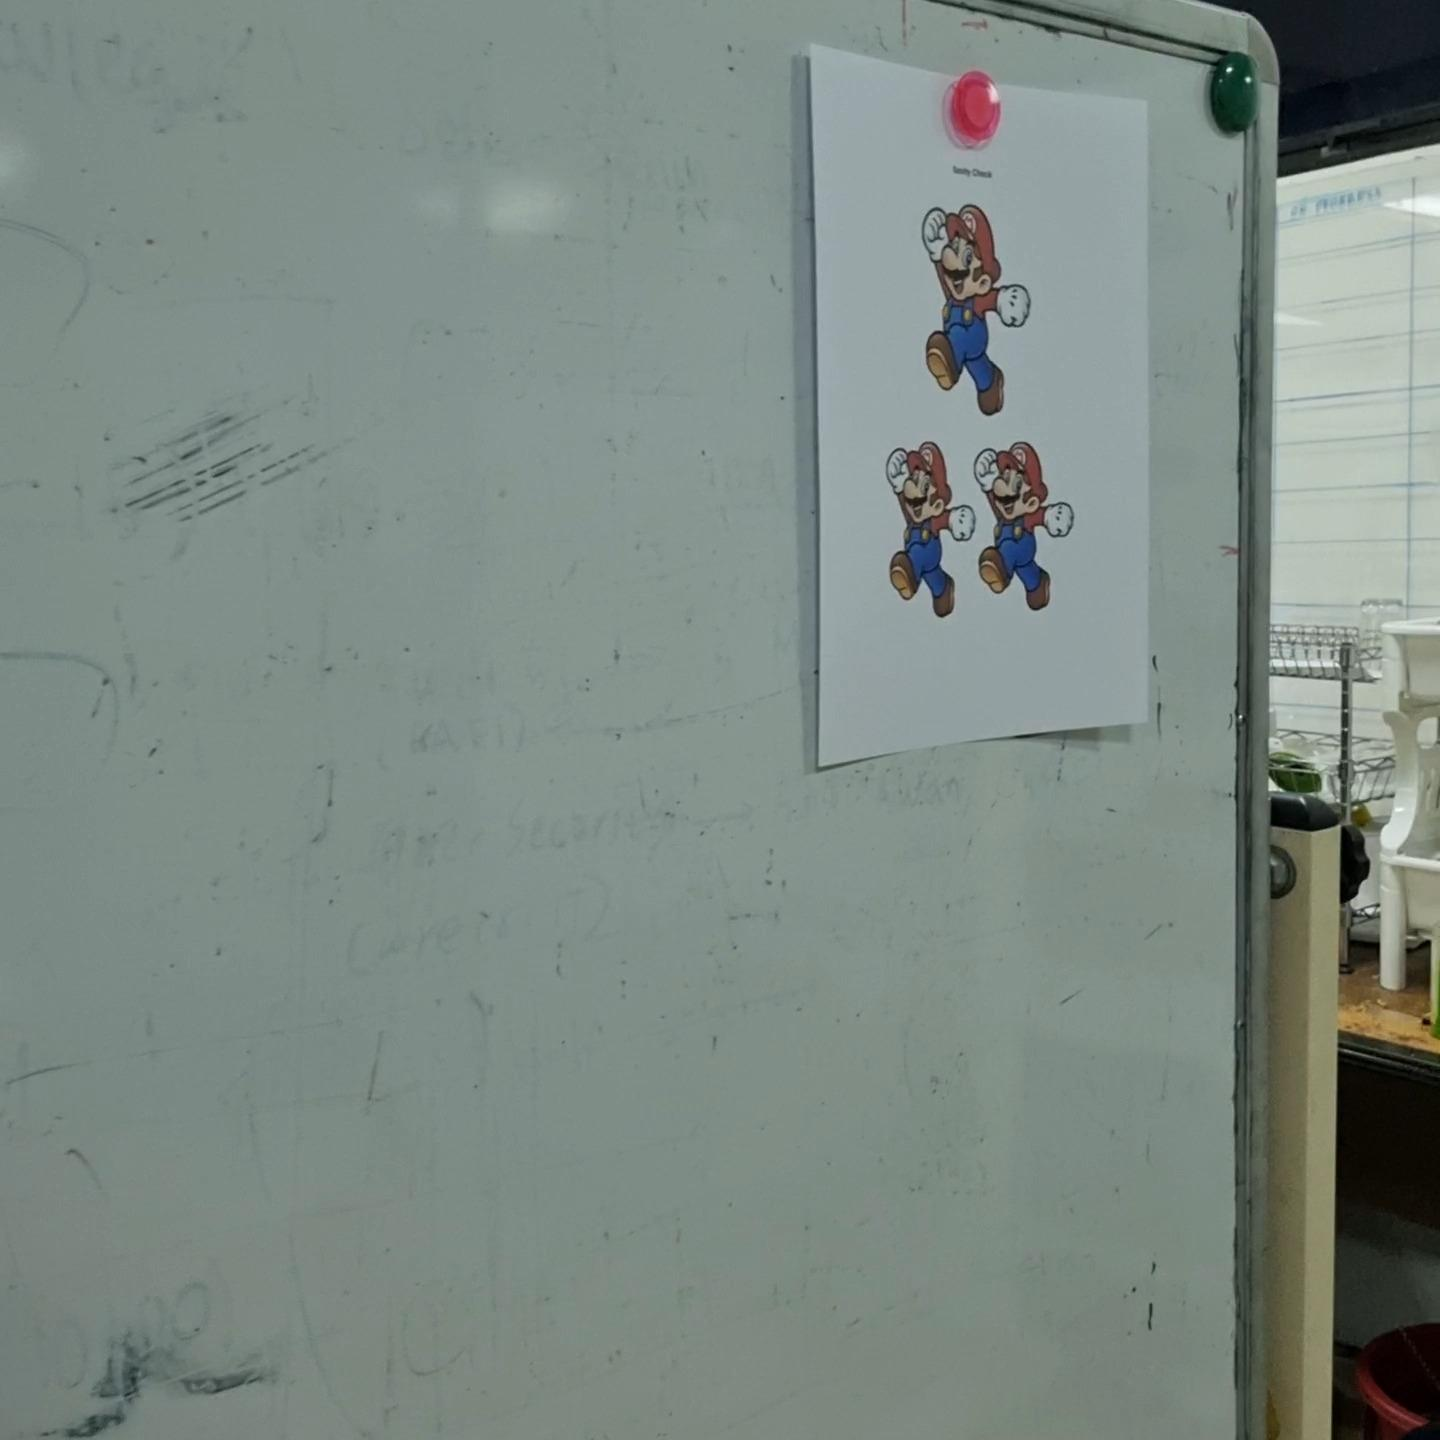mario: (911, 194, 1036, 419), (967, 436, 1084, 621), (877, 438, 978, 617)
